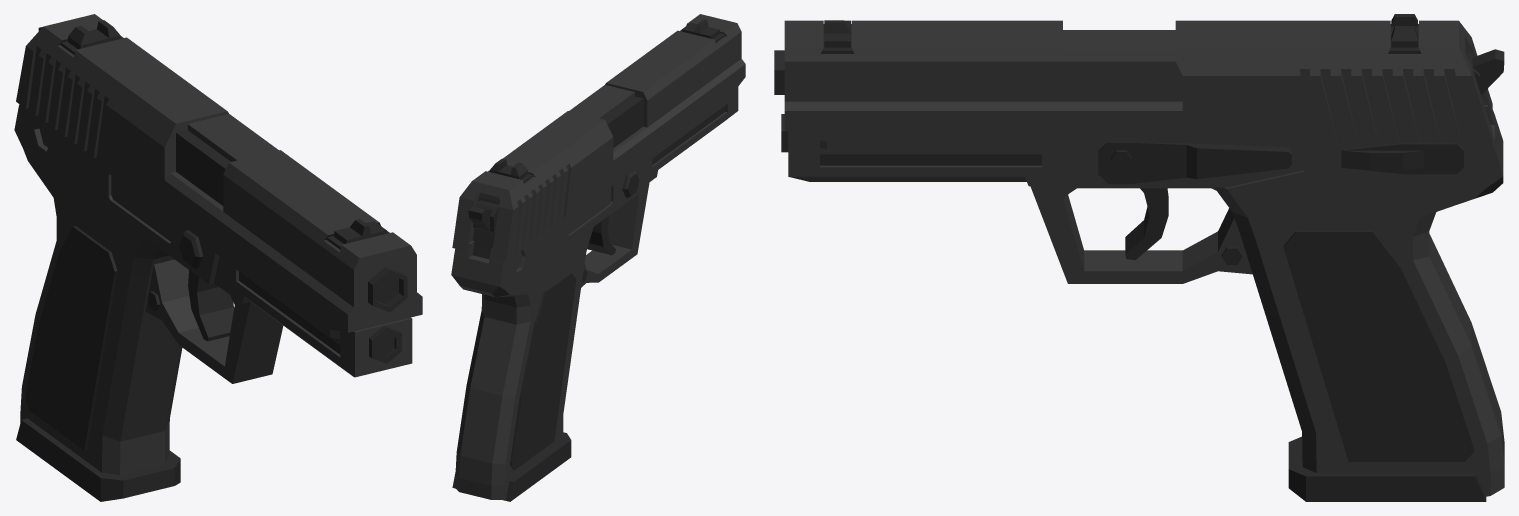
Rendered from pistol.glb.
3 views of the same model, side by side, from view 1: azimuth 30°, elevation 25°; view 2: azimuth 150°, elevation 25°; view 3: azimuth 270°, elevation 25° (orthographic). The views are drawn at different scales.
Visible parts, largest first — view 1: Pistol_C_Receiver, Pistol_C_BarrelGuard, Pistol_C_Mag, Pistol_C_Trigger, Pistol_C_Barrel; view 2: Pistol_C_Receiver, Pistol_C_BarrelGuard, Pistol_C_Mag, Pistol_C_Bolt, Pistol_C_Trigger; view 3: Pistol_C_Receiver, Pistol_C_BarrelGuard, Pistol_C_Mag, Pistol_C_Trigger, Pistol_C_Bolt.
Boxes of the visible parts, box(x1,y1,x2,y2) form: Pistol_C_Receiver: box(14, 104, 412, 474); Pistol_C_BarrelGuard: box(16, 14, 422, 332); Pistol_C_Mag: box(16, 418, 180, 501); Pistol_C_Trigger: box(188, 270, 234, 341); Pistol_C_Barrel: box(368, 267, 407, 312); Pistol_C_Receiver: box(451, 87, 738, 499); Pistol_C_BarrelGuard: box(452, 14, 745, 260); Pistol_C_Mag: box(452, 432, 571, 501); Pistol_C_Bolt: box(468, 200, 498, 232); Pistol_C_Trigger: box(587, 216, 615, 255); Pistol_C_Receiver: box(781, 105, 1504, 496); Pistol_C_BarrelGuard: box(784, 14, 1492, 142); Pistol_C_Mag: box(1288, 436, 1486, 501); Pistol_C_Trigger: box(1125, 188, 1168, 260); Pistol_C_Bolt: box(1465, 49, 1504, 94).
Bounding box in the file's own units: 0.143 × 0.72 × 1.04.
1 material, 1 textured.
